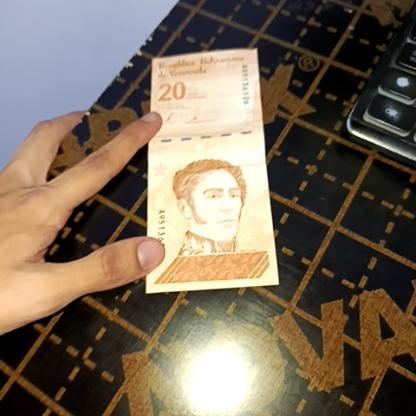twenty-front-vef: (145, 52, 279, 293)
